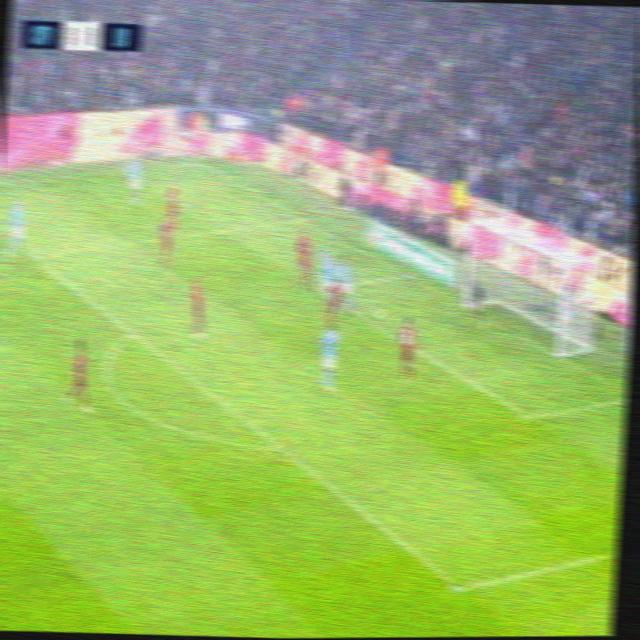bigarea_bottom_inner: (445, 571, 477, 607)
bigarea_top_inner: (17, 241, 43, 270)
bigarea_top_outter: (293, 210, 313, 229)
bottom_arc_area_intersection: (262, 423, 297, 469)
corner: (190, 157, 204, 169)
smallarea_bottom_inner: (516, 405, 546, 434)
smallarea_top_inner: (312, 282, 325, 296)
smallarea_top_outter: (395, 266, 415, 284)
top_arc_area_intersection: (121, 320, 145, 348)
